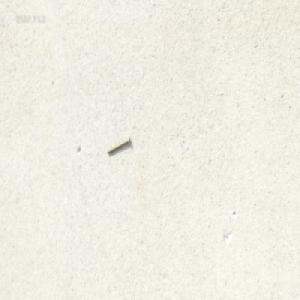Bolt: (106, 135, 130, 155)
